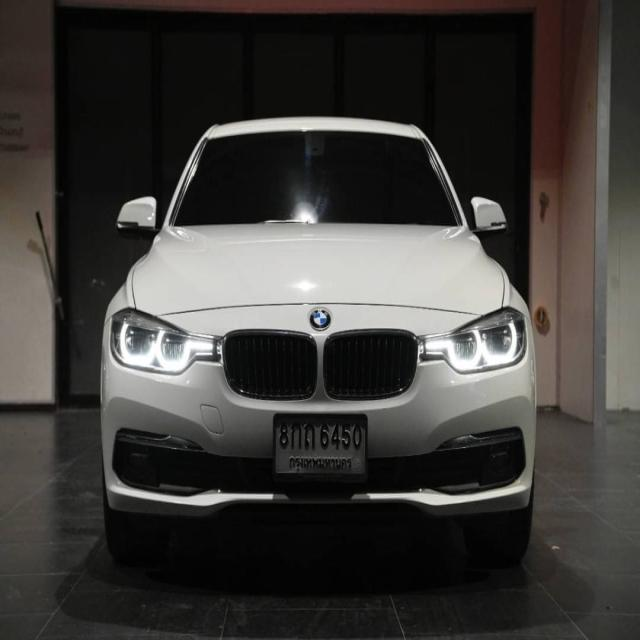license_plate: (271, 410, 370, 479)
